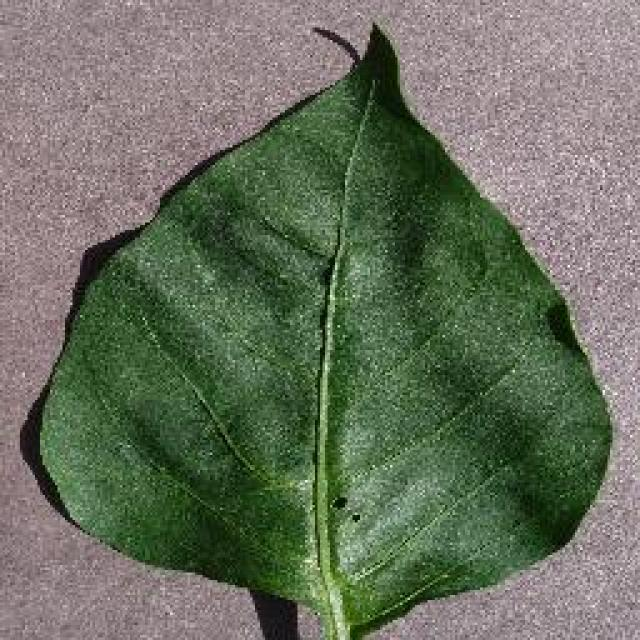Chilli_Healthy: (32, 20, 612, 638)
